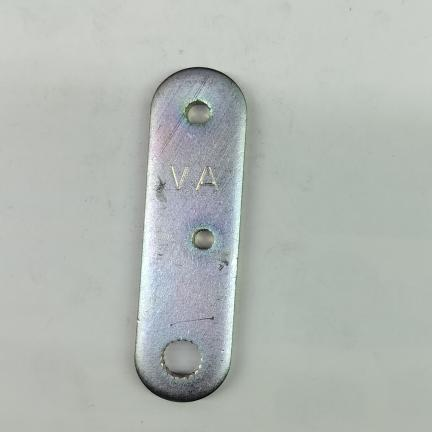black mark after electroplating: (154, 170, 172, 207)
